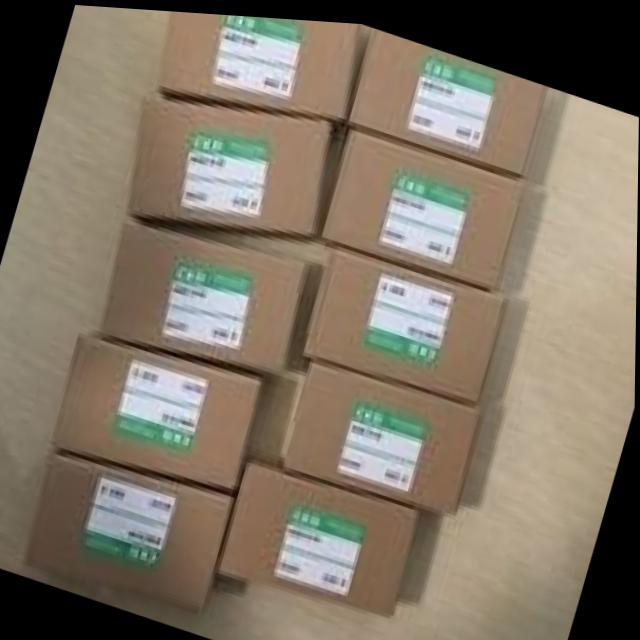box: (52, 326, 262, 489), (24, 451, 236, 611), (321, 122, 529, 285), (102, 217, 323, 370), (304, 240, 510, 399), (218, 456, 420, 614), (284, 353, 483, 507), (348, 22, 551, 169), (131, 100, 341, 235), (161, 9, 362, 115), (135, 216, 328, 258), (243, 367, 307, 465)
